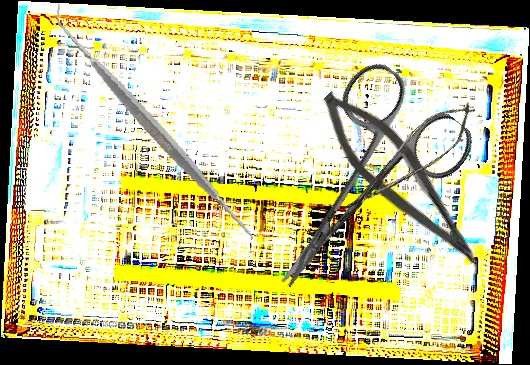Iris Scissors: (226, 53, 482, 325)
Micro Scissor: (302, 78, 501, 277), (335, 90, 485, 229)
Spatula Surgical: (27, 2, 282, 254)
